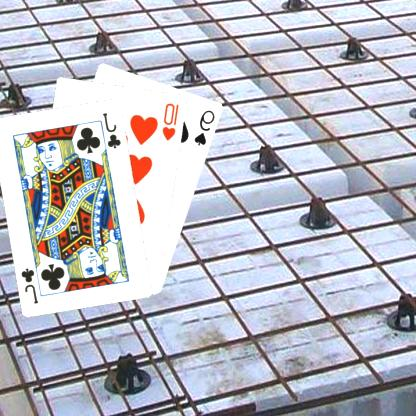10H: (161, 100, 182, 142)
9S: (193, 107, 218, 147)
JC: (102, 110, 124, 150), (20, 265, 42, 304)
